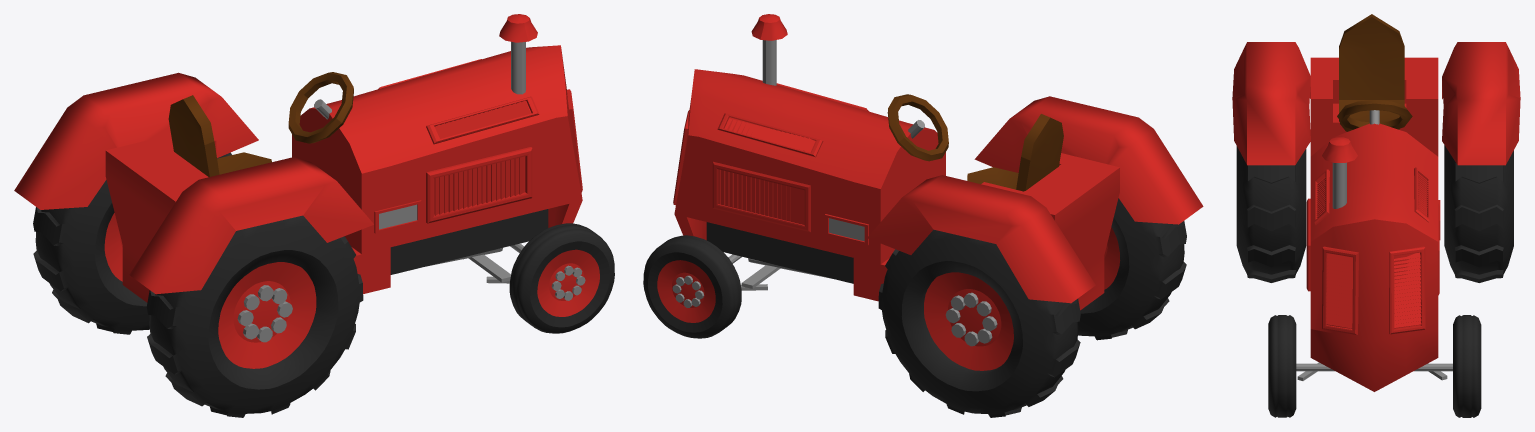
File: Traktor.fbx
The picture shows the model from 3 angles, left to right: view 1: azimuth 30°, elevation 25°; view 2: azimuth 150°, elevation 25°; view 3: azimuth 270°, elevation 25°; orthographic projection. The views are drawn at different scales.
Parts seen in each view (by area): view 1: Plane.002; view 2: Plane.002; view 3: Plane.002.
Part boxes in pixels (x1=…): Plane.002: x1=14, y1=14, x2=614, y2=417; Plane.002: x1=643, y1=14, x2=1203, y2=417; Plane.002: x1=1232, y1=14, x2=1520, y2=417.
Bounding box in the file's own units: 1678 × 961 × 936.
